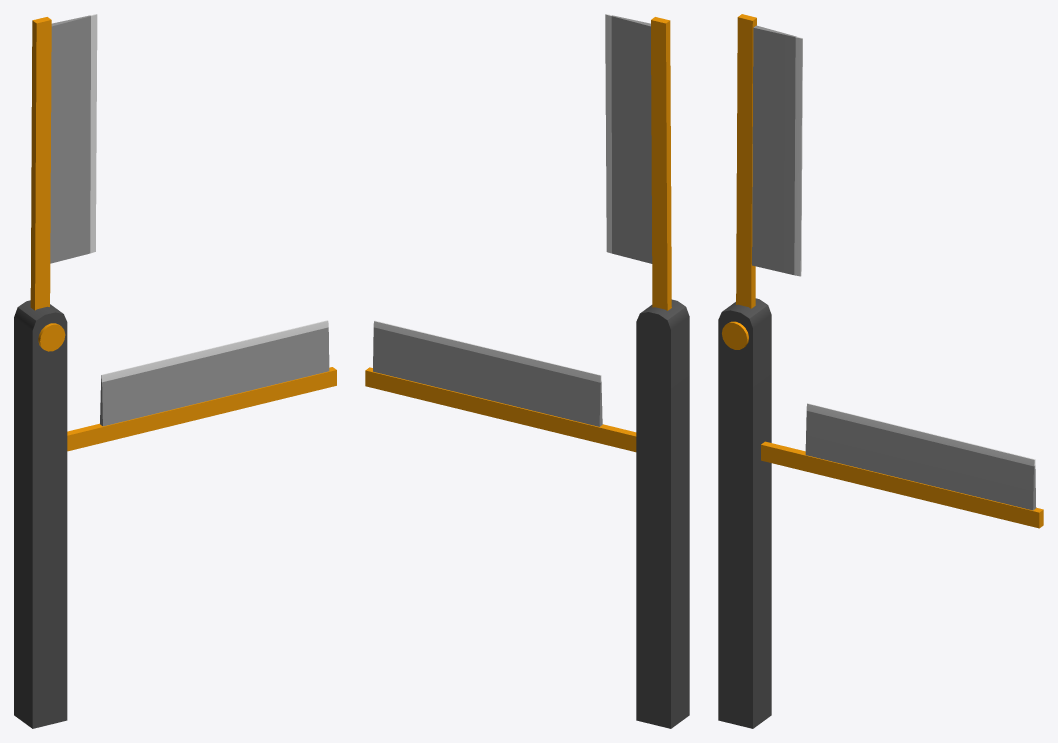
The model's file is trap_14.fbx.
The picture shows the model from 3 angles, left to right: view 1: azimuth 30°, elevation 25°; view 2: azimuth 150°, elevation 25°; view 3: azimuth 330°, elevation 25°; orthographic projection.
Parts seen in each view (by area): view 1: trap_014 (×2); view 2: trap_014 (×2); view 3: trap_014 (×2).
Boxes of the visible parts, x1,y1,x2,y2 form: trap_014 (×2): (14, 14, 336, 728); trap_014 (×2): (365, 14, 689, 728); trap_014 (×2): (718, 14, 1043, 728).
Size of the model in its own units: 1847 by 3943 by 210.
1 material, 1 textured.
